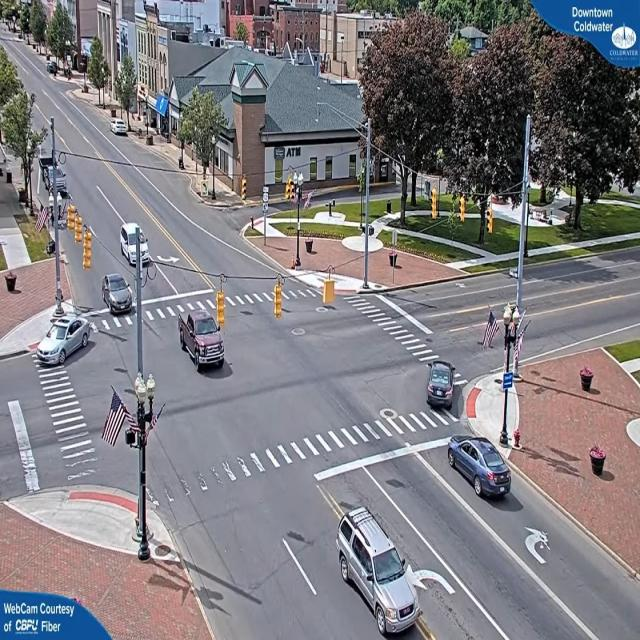car: (337, 508, 420, 638), (448, 435, 512, 501), (177, 303, 226, 368), (35, 316, 92, 369), (425, 363, 454, 407), (119, 223, 149, 265), (103, 274, 135, 312), (113, 121, 129, 136)
